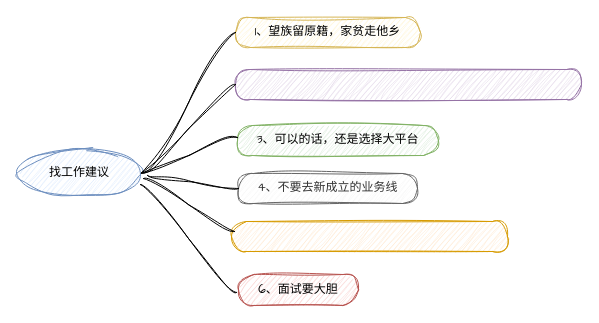
Some shapes in this 599 by 323 pixel diagram are drawn without their labels. The box of each missing label's shape, as (x1, y1, x2, y2) in pixels:
2、如今的就业市场，公务员、事业单位，是绝对优势单位: (234, 68, 582, 100)
5、入职前，一定要搜索下这家公司是否靠谱: (230, 220, 508, 252)
